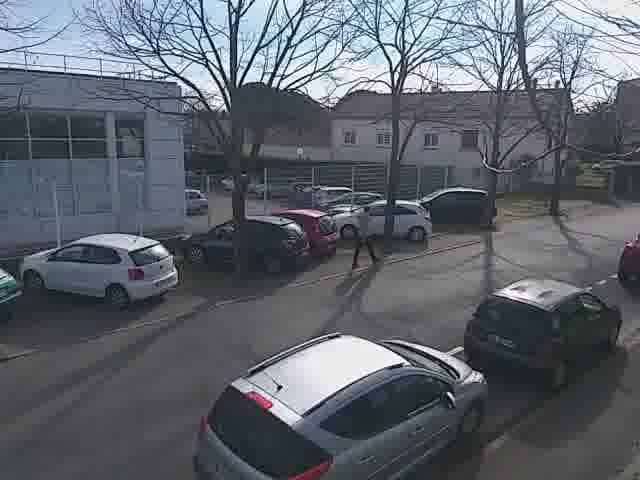persona: (350, 195, 380, 273)
